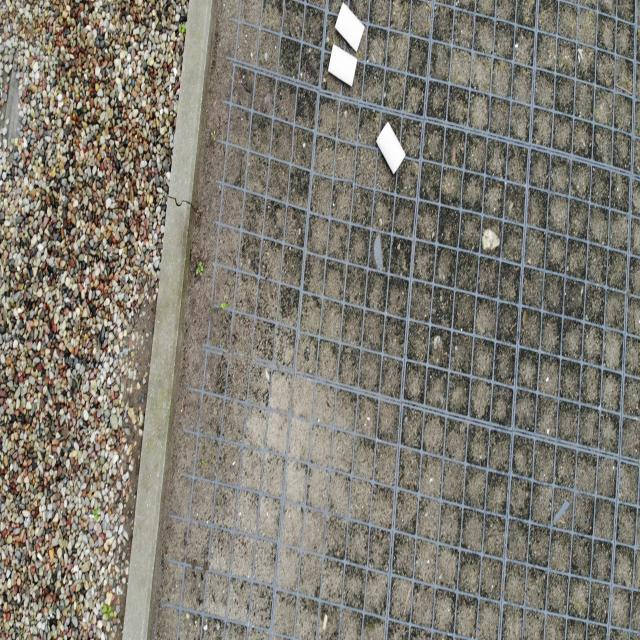rubbish: (375, 122, 406, 173), (333, 3, 364, 52), (327, 44, 358, 85)
